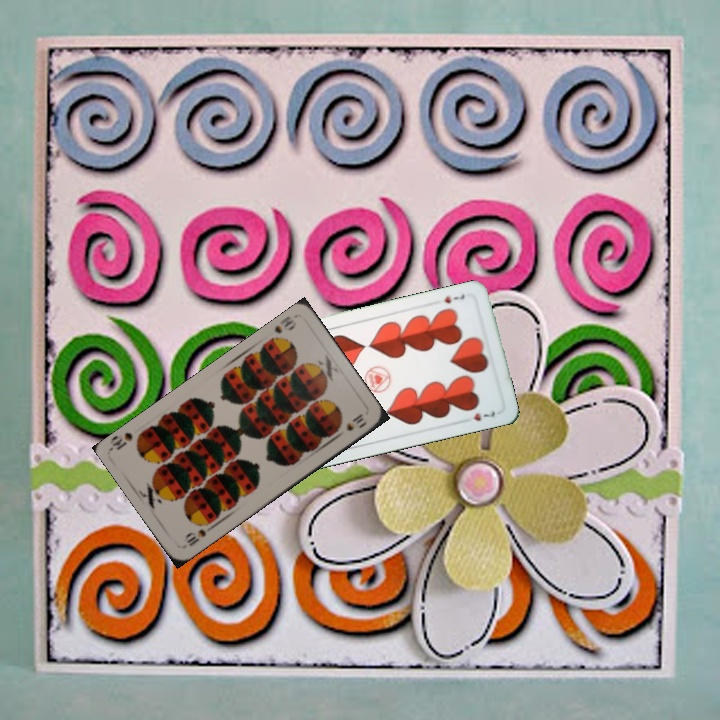H7: (440, 290, 467, 306)
S10: (266, 312, 299, 346), (183, 525, 209, 549)
